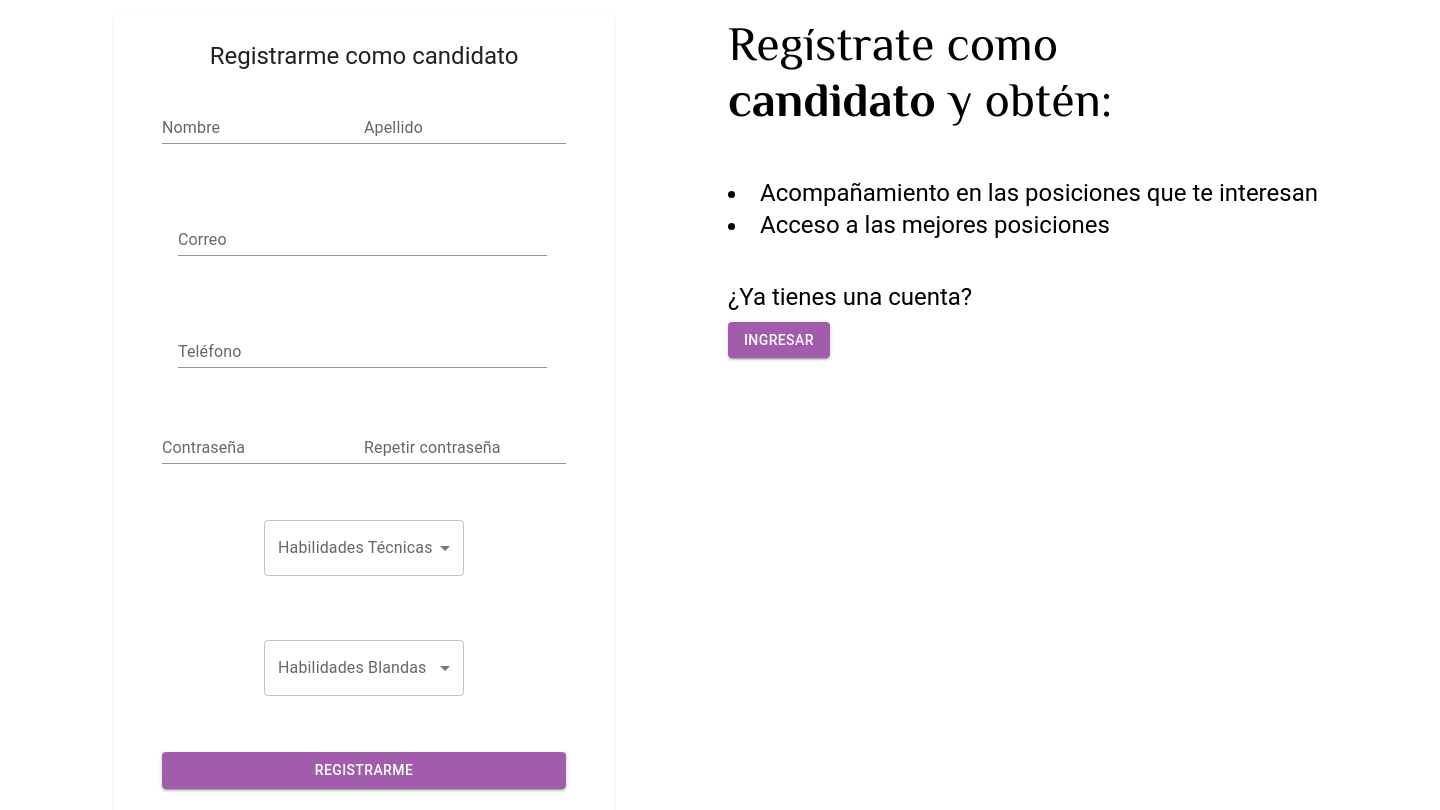
Register Component › shows validation errors when fields are empty and form is submitted
Click the button "Registrarme" at (364, 770), box [162,752,566,788]
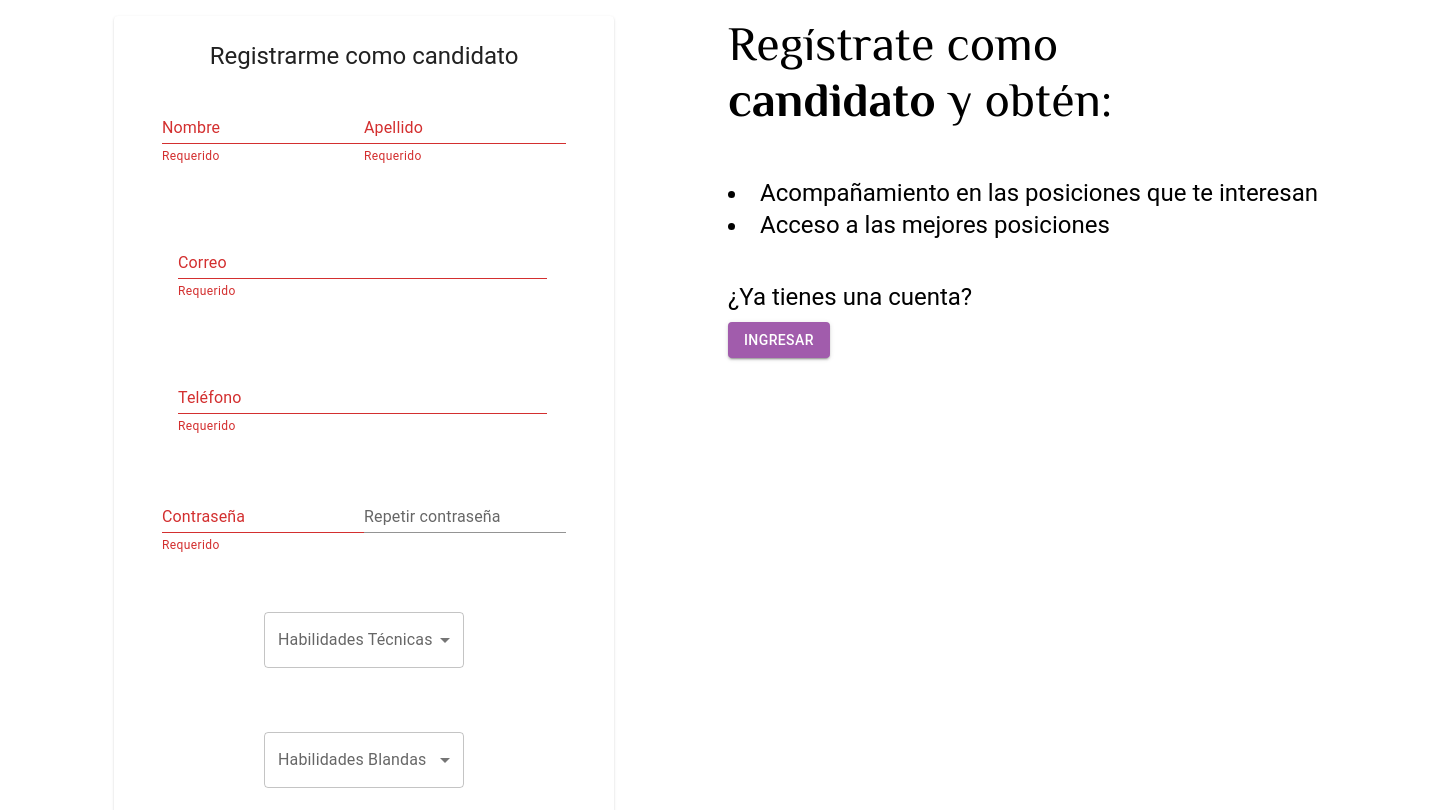
Now the text "Requerido" is shown 5 times, box [162,149,220,163]; [364,149,422,163]; [178,284,236,298]; [178,419,236,433]; [162,538,220,552]
